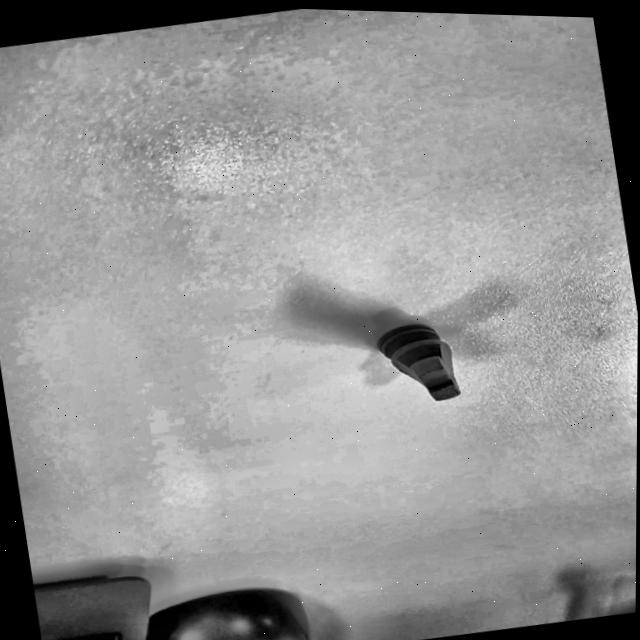black-knight: (353, 303, 479, 417)
